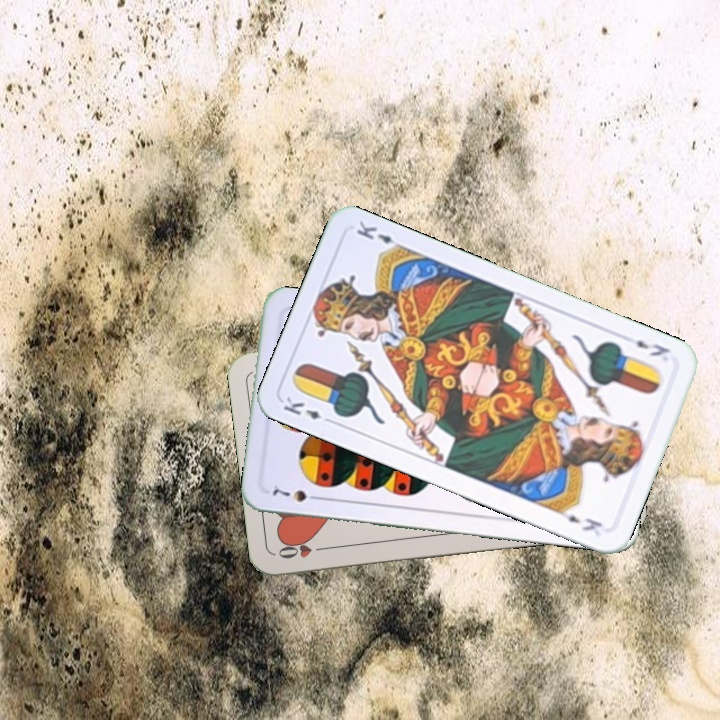EK: (279, 392, 337, 427), (632, 336, 673, 360)
HO: (273, 537, 332, 561)
S7: (268, 481, 324, 505)
